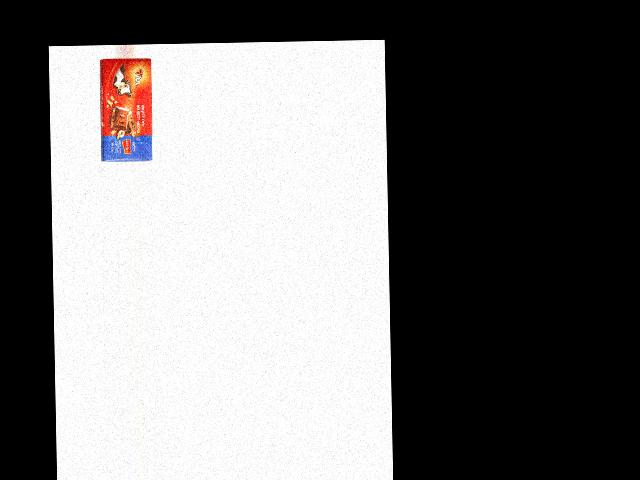chocolate: (99, 57, 152, 161)
